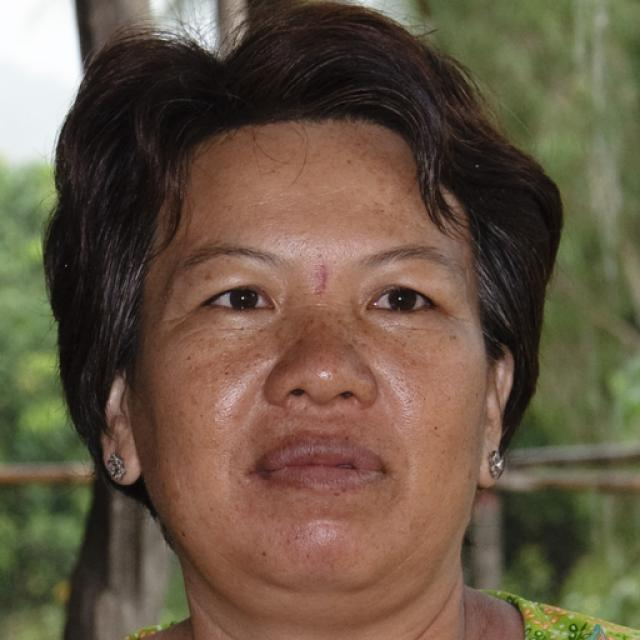Pigmentation: (276, 306, 366, 378), (343, 124, 418, 200)
